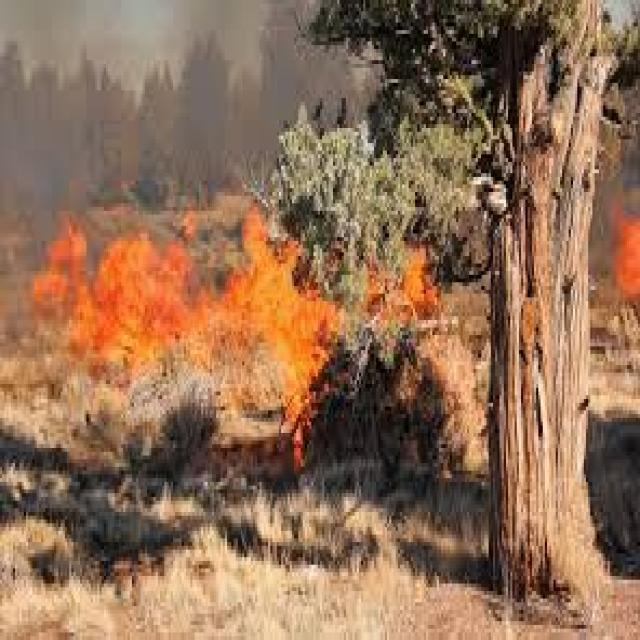Fire: (71, 202, 340, 439), (29, 200, 341, 378), (382, 217, 453, 309), (608, 194, 640, 327)
Smoke: (2, 0, 317, 165)
